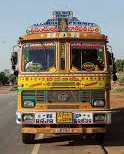truck: (10, 8, 114, 147)
